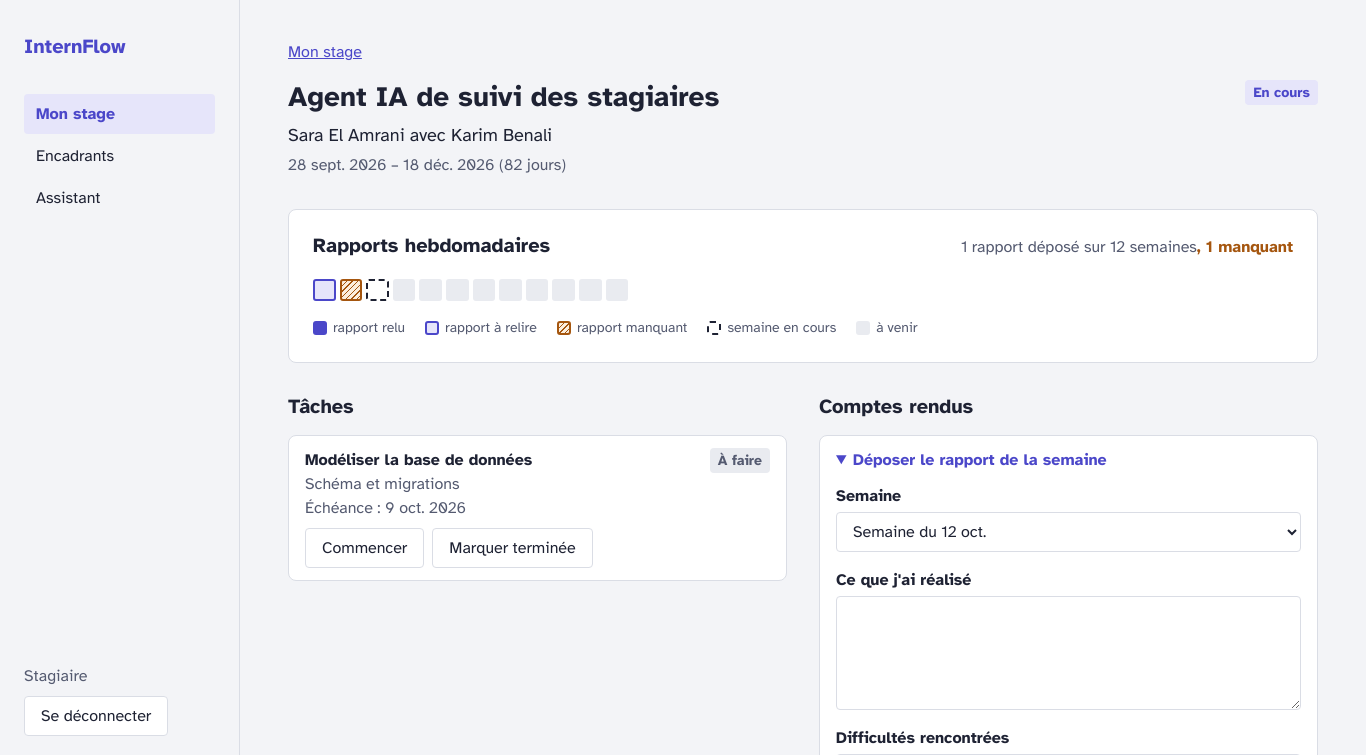
page d'un stage › fait avancer une tâche
This screenshot has width=1366, height=755.
Click the button "Commencer".
click(365, 548)  # box [305,528,424,568]
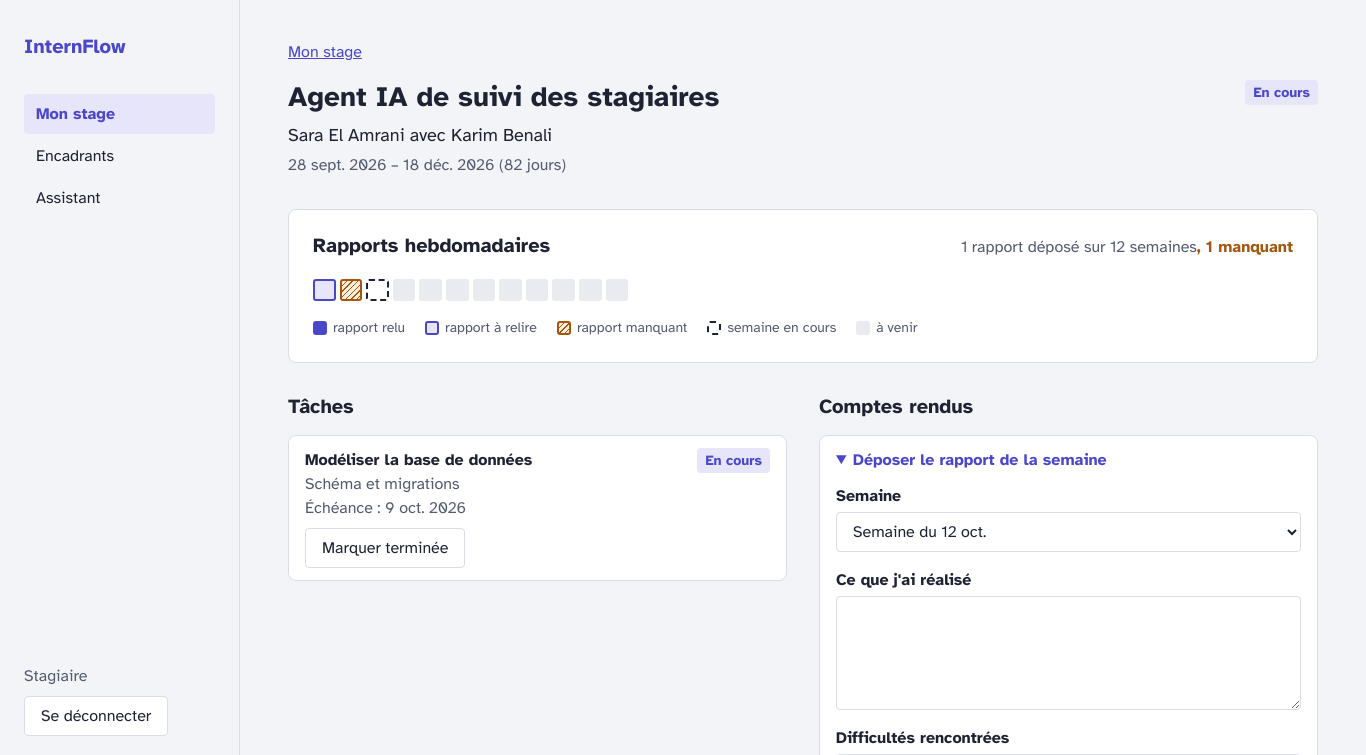
Check: the text "En cours" in the row of "Modéliser la base de données" is shown, box [705,452,762,469]
Click the button "Marquer terminée".
click(385, 548)  # box [305,528,465,568]
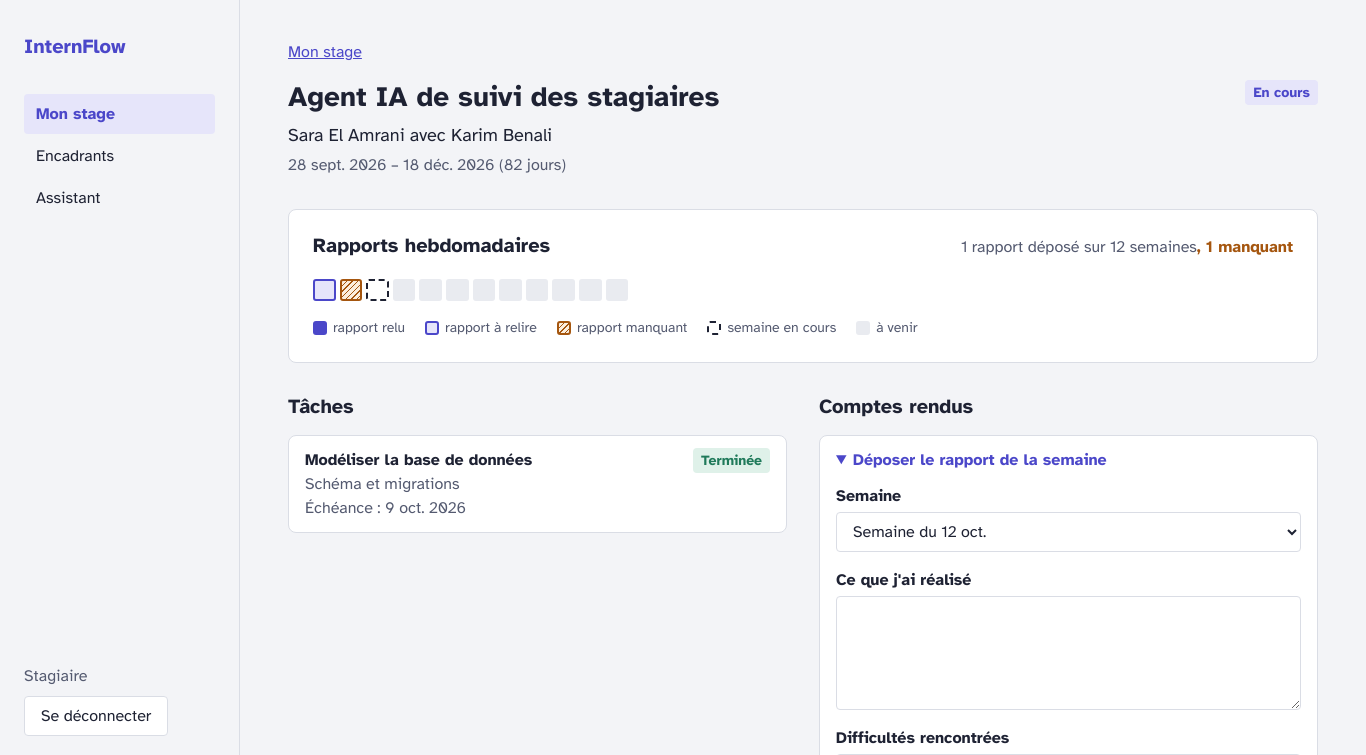
Check: the text "Terminée" is shown, box [693,448,770,473]
